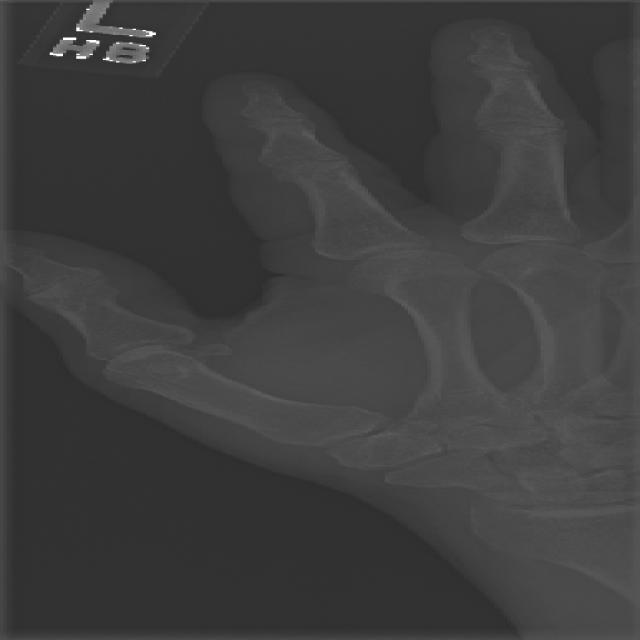fingers positive: (256, 157, 384, 199)
